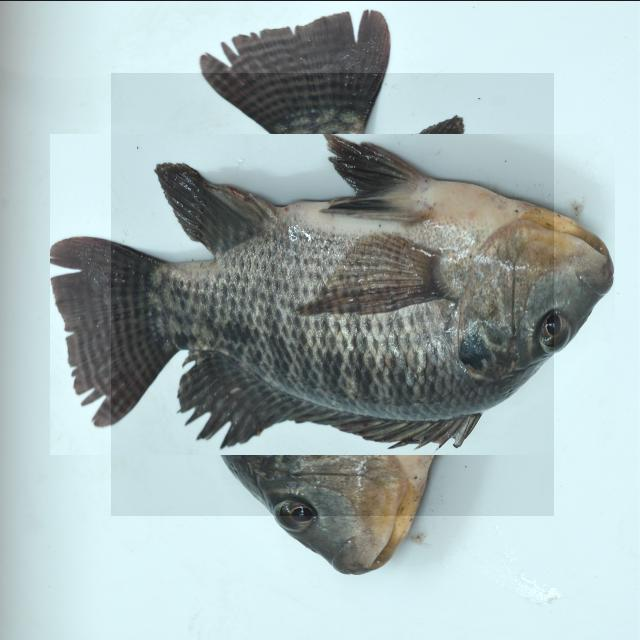Healthy Fish: (111, 72, 554, 515)
